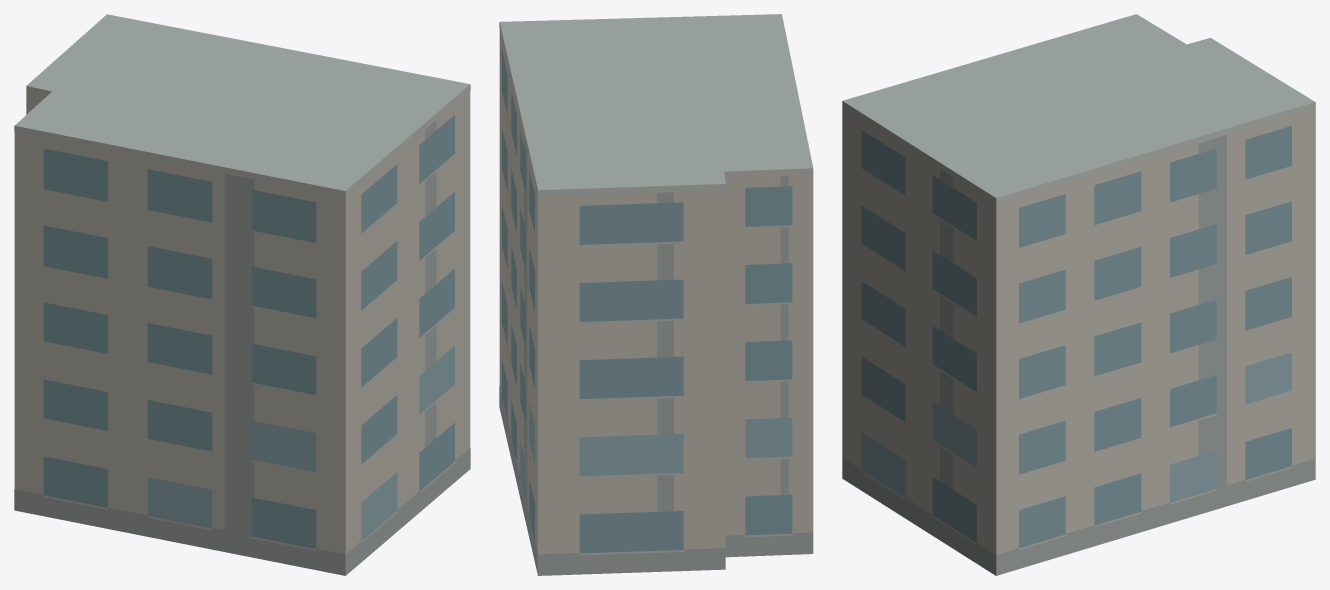
Rendered from survey-upis-32965060.glb.
3 views of the same model, side by side, from view 1: azimuth 30°, elevation 25°; view 2: azimuth 150°, elevation 25°; view 3: azimuth 270°, elevation 25° (orthographic). The views are drawn at different scales.
Parts seen in each view (by area): view 1: survey-upis-32965060.tmp; view 2: survey-upis-32965060.tmp; view 3: survey-upis-32965060.tmp.
Boxes of the visible parts, x1,y1,x2,y2 form: survey-upis-32965060.tmp: (14,14,470,575); survey-upis-32965060.tmp: (499,14,813,575); survey-upis-32965060.tmp: (842,14,1315,575).
Size of the model in its own units: 15.07 by 14.4 by 16.36.
